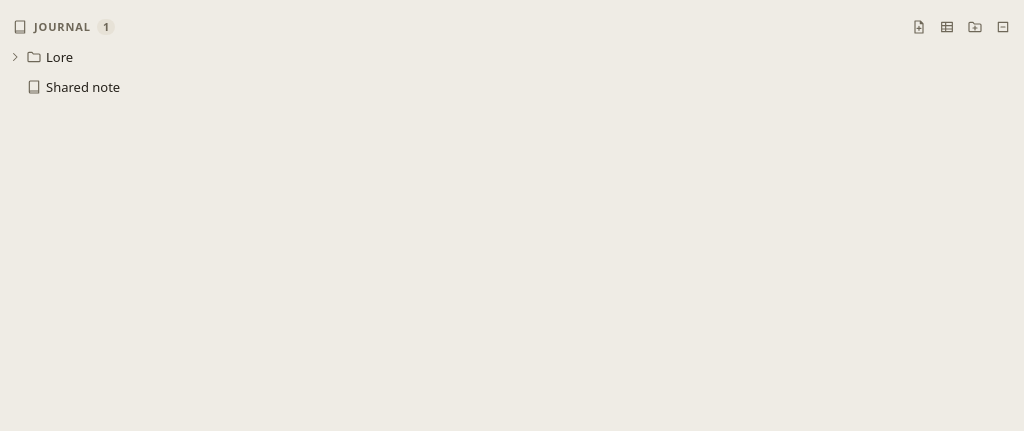
Test: journal context menus › changes visibility with the current version and blocks repeat writes
Right-click the text "Shared note" at point(83, 87), box x1=46 y1=78 x2=120 y2=96
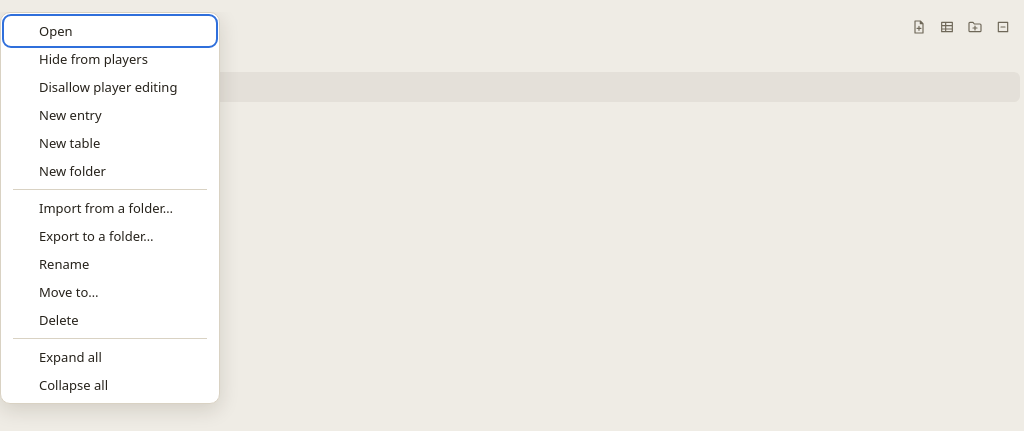
Click the menu item "Hide from players" at point(110, 59), box x1=5 y1=45 x2=215 y2=73
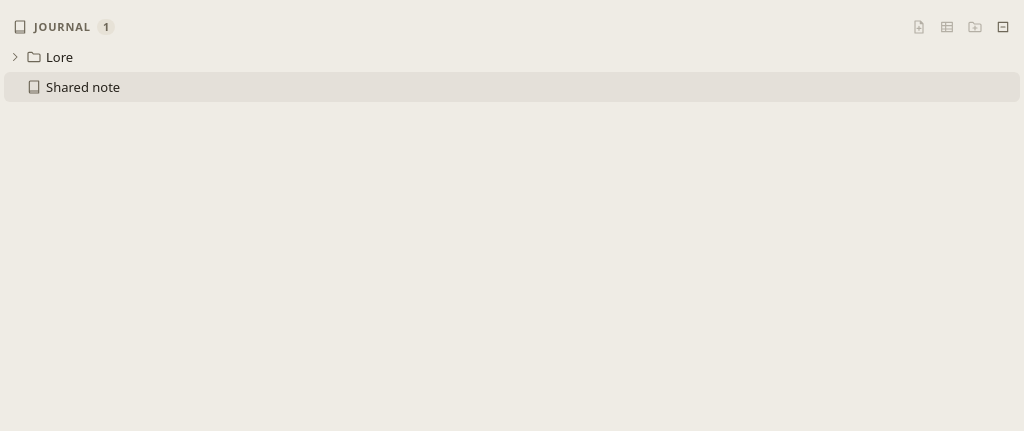
Right-click the text "Shared note" at point(83, 87), box x1=46 y1=78 x2=120 y2=96
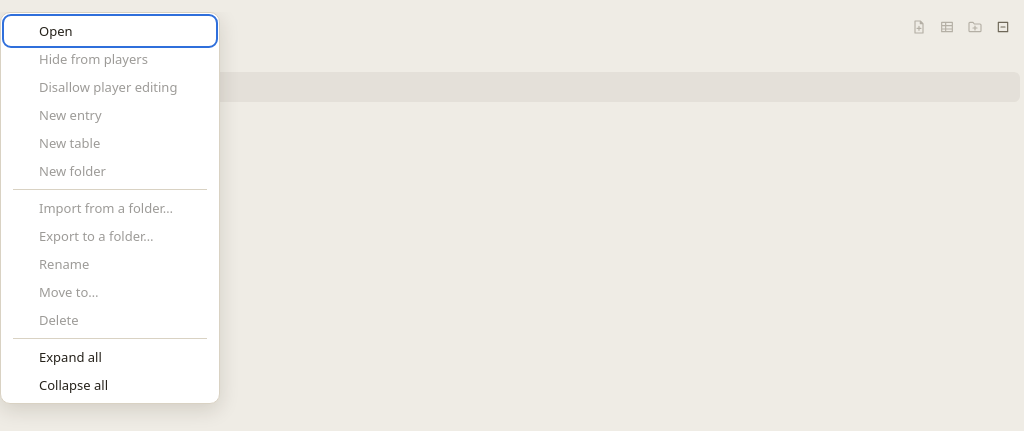
Expected: the menu item "Delete" is disabled, x1=5 y1=306 x2=215 y2=334
Expected: the menu item "New entry" is disabled, x1=5 y1=101 x2=215 y2=129
